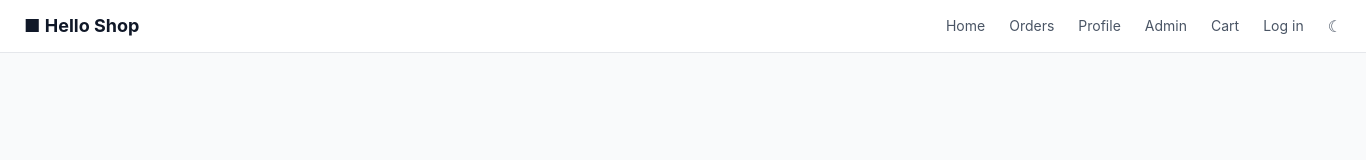
Header › flips the theme toggle icon when clicked
Click the button named "Toggle theme" at (1335, 26), box [1328,14,1342,38]
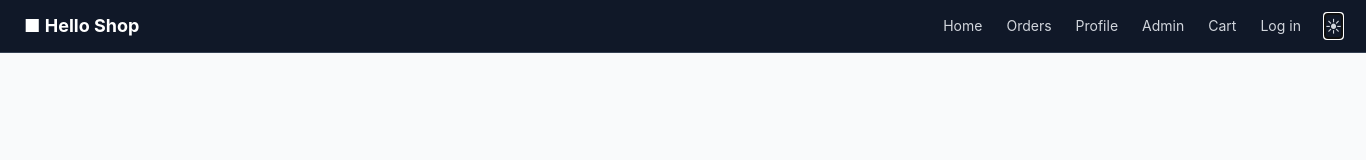
Now the button named "Toggle theme" reads "☀", box [1325,14,1342,38]
